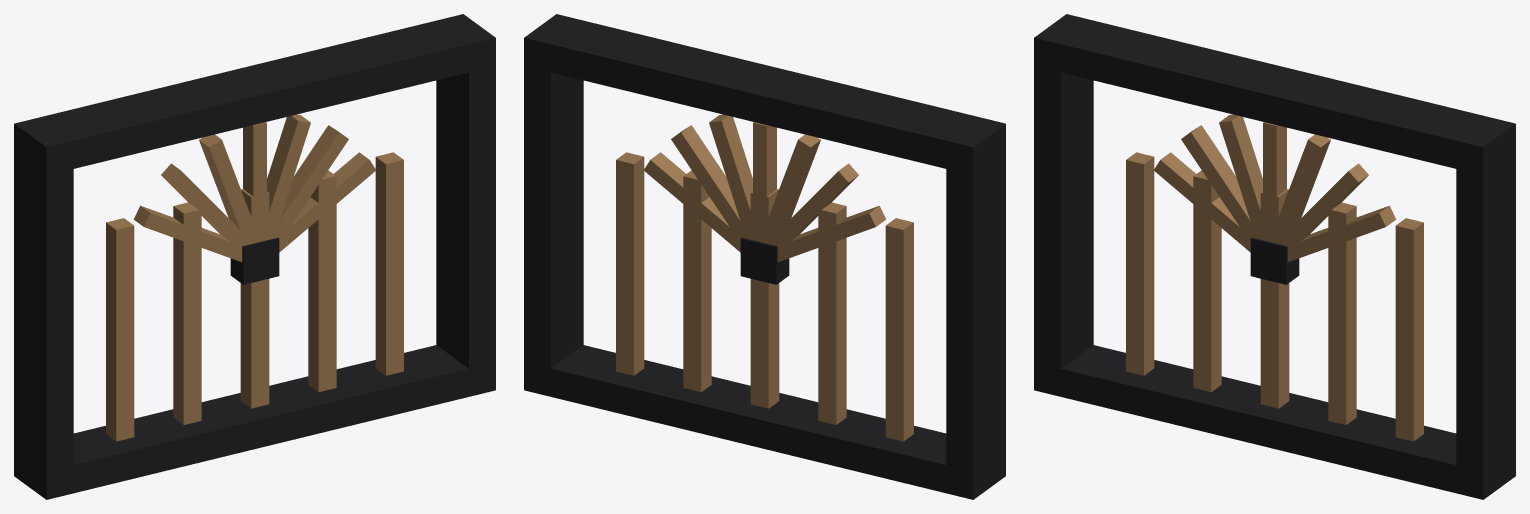
3 renders of one model, left to right at view 1: azimuth 30°, elevation 25°; view 2: azimuth 150°, elevation 25°; view 3: azimuth 330°, elevation 25°, orthographic.
Parts seen in each view (by area): view 1: window-fan-lattice-a@1.0.0; view 2: window-fan-lattice-a@1.0.0; view 3: window-fan-lattice-a@1.0.0.
Boxes of the visible parts, x1,y1,x2,y2 form: window-fan-lattice-a@1.0.0: [14, 14, 495, 499]; window-fan-lattice-a@1.0.0: [524, 14, 1005, 499]; window-fan-lattice-a@1.0.0: [1034, 14, 1515, 499].
Size of the model in its own units: 2 by 1.5 by 0.25.
